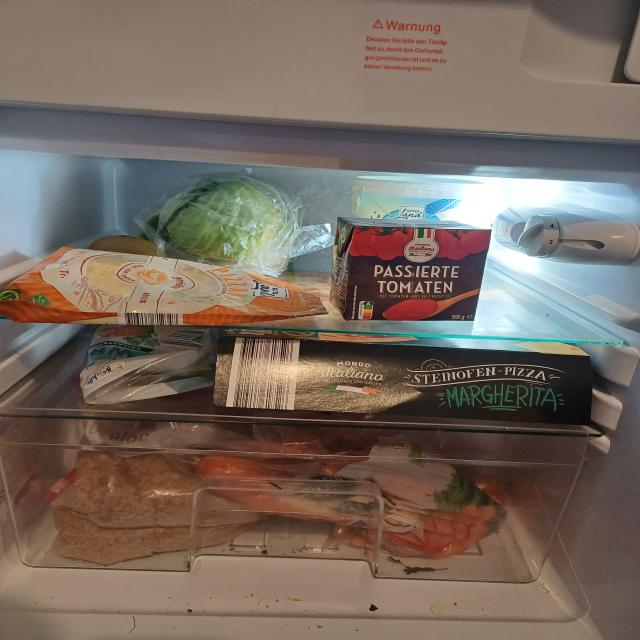Cheese: (0, 242, 330, 324)
Pizza: (217, 324, 599, 424)
Plastic bag: (38, 416, 238, 562)
Tomato Puree: (337, 219, 486, 325)
Tortilla: (83, 324, 217, 402)
Yogurt: (352, 173, 496, 226)
cabbage: (159, 172, 306, 268)
carrot: (197, 430, 505, 556)
kiwi: (91, 232, 162, 261)
